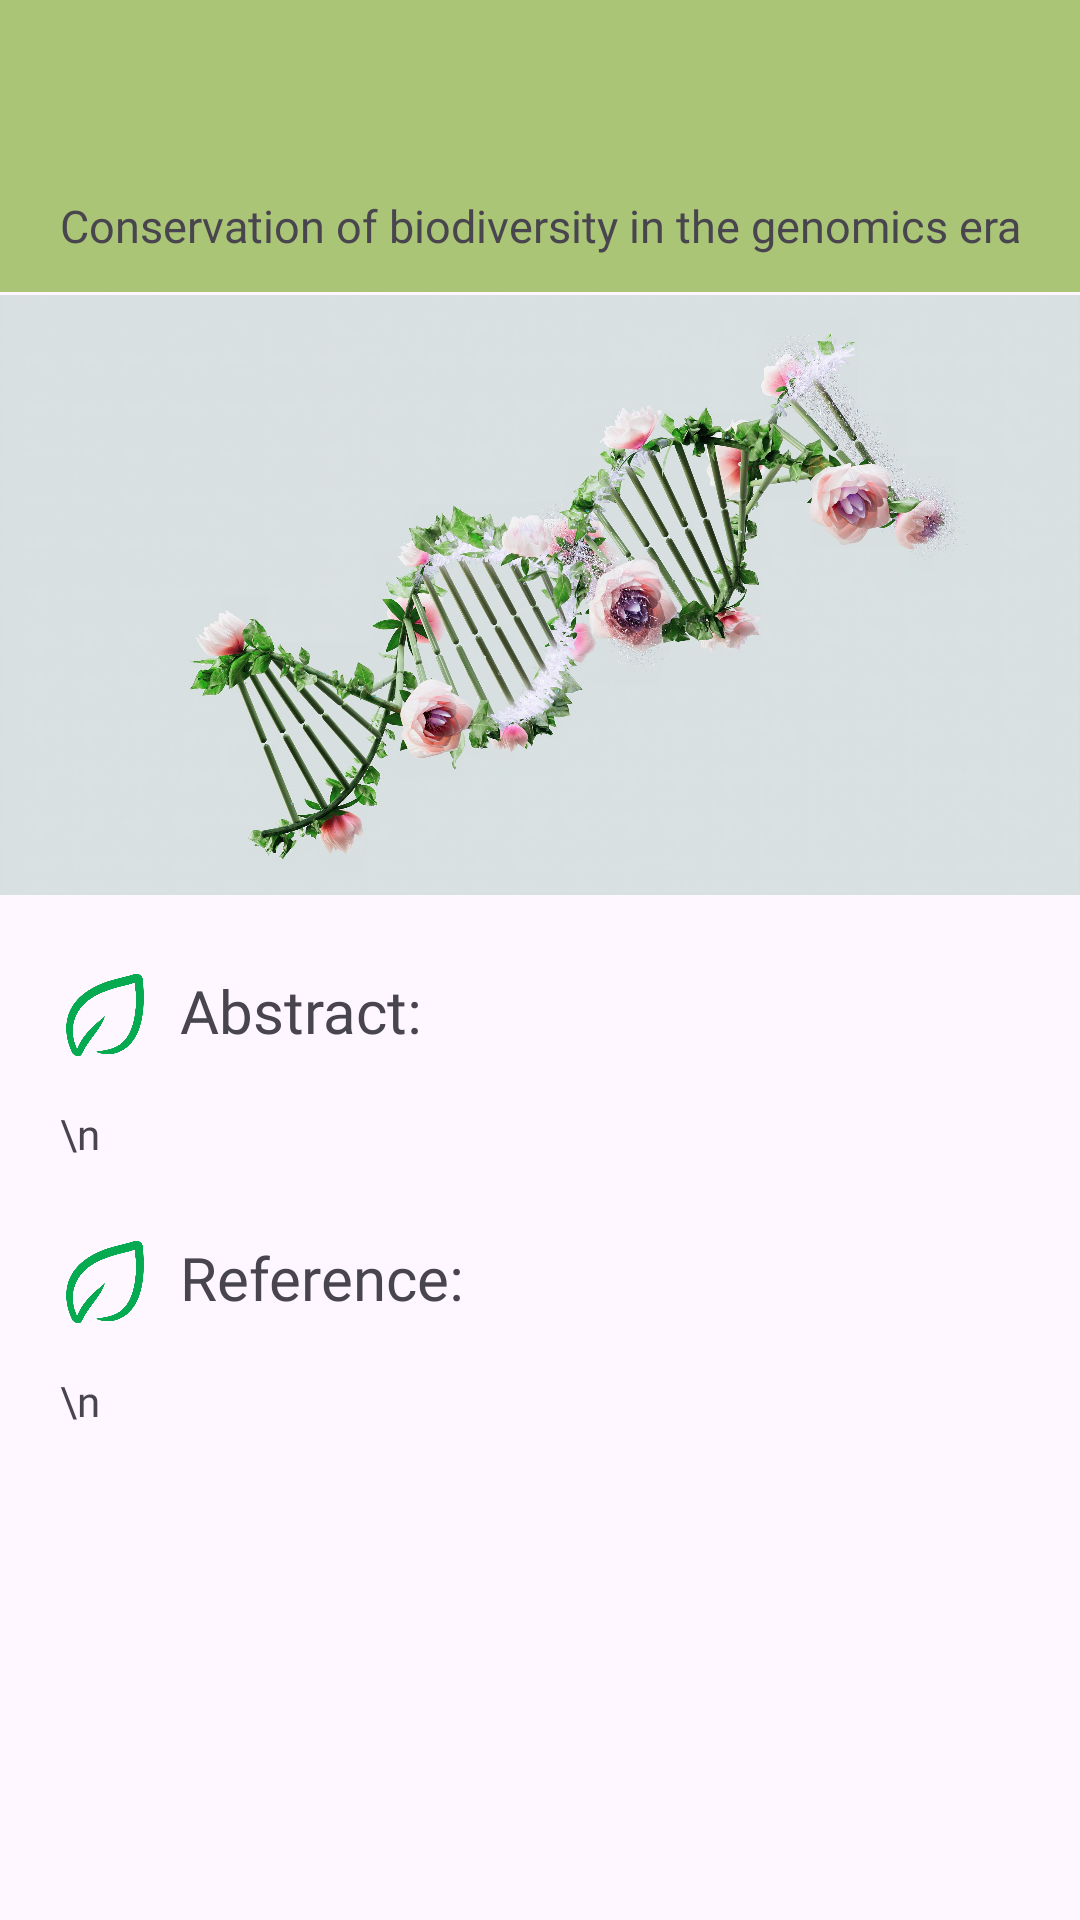

Screen size 1080×1920. Icon name, then its center in pixels as (x=x, y=y):
leaf: (x=105, y=1015), (x=105, y=1282)
